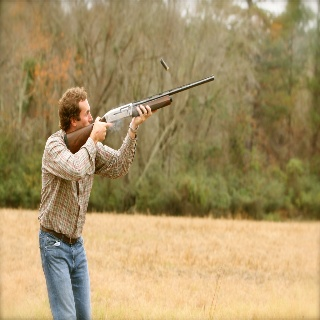shotgun: (60, 75, 216, 157)
